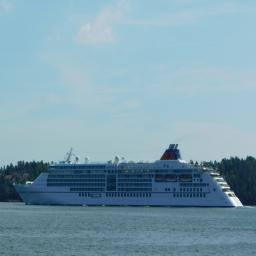cruises: (13, 144, 247, 212)
